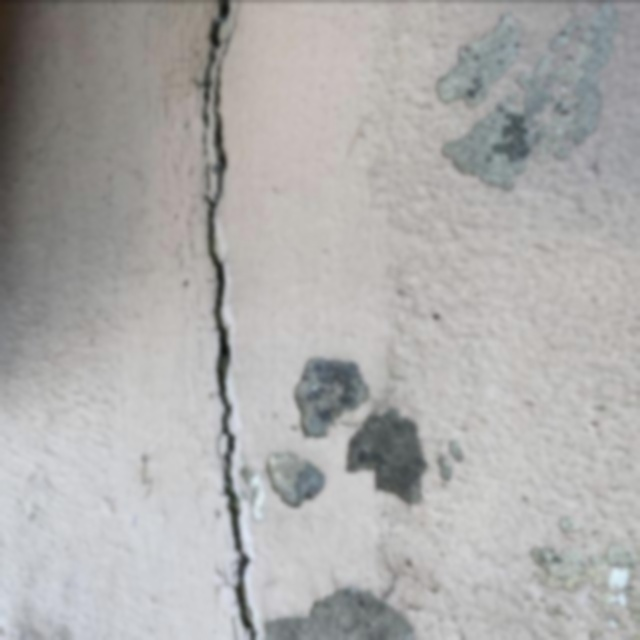SurfaceCrack: (168, 0, 289, 640), (410, 1, 640, 209)
